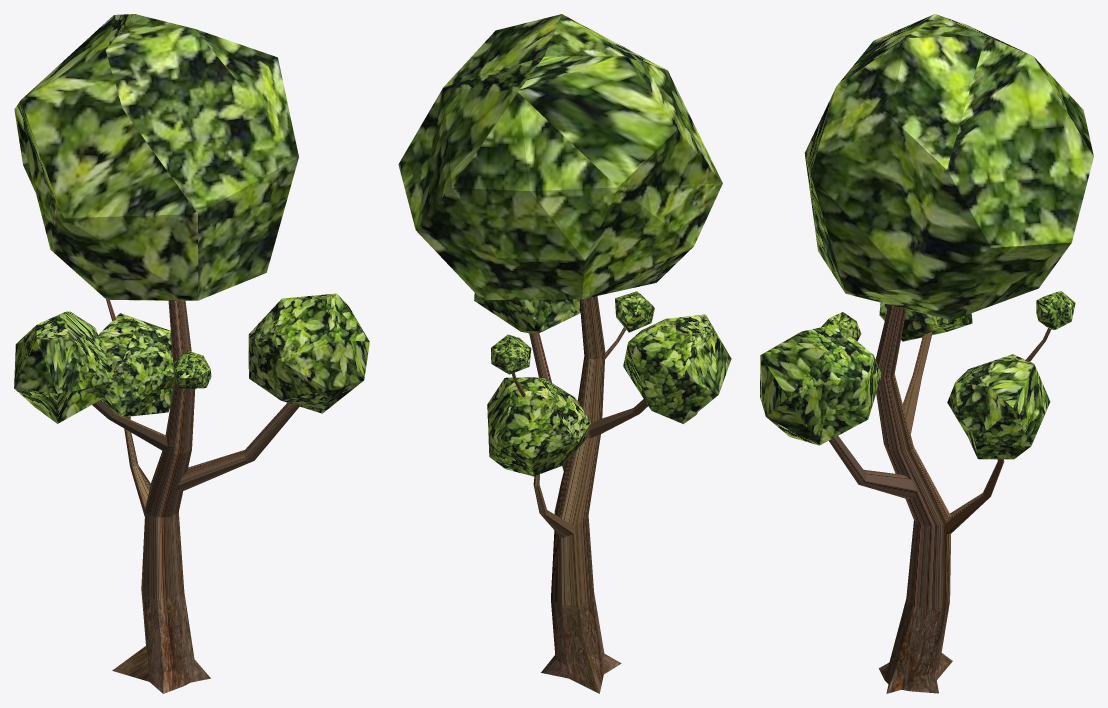
File: Tree_obj.obj
3 views of the same model, side by side, from view 1: azimuth 30°, elevation 25°; view 2: azimuth 150°, elevation 25°; view 3: azimuth 270°, elevation 25° (orthographic).
Parts seen in each view (by area): view 1: Icosphere, Cylinder, Icosphere.001, Icosphere.002, Icosphere.003, Icosphere.005_Icosphere.006; view 2: Icosphere, Cylinder, Icosphere.002, Icosphere.003, Icosphere.001, Icosphere.004, Icosphere.005_Icosphere.006; view 3: Icosphere, Cylinder, Icosphere.001, Icosphere.003, Icosphere.002, Icosphere.004, Icosphere.005_Icosphere.006.
Boxes of the visible parts, x1,y1,x2,y2 form: Icosphere: [14, 14, 298, 300]; Cylinder: [92, 300, 299, 693]; Icosphere.001: [248, 293, 369, 413]; Icosphere.002: [14, 311, 113, 423]; Icosphere.003: [98, 313, 174, 416]; Icosphere.005_Icosphere.006: [171, 350, 211, 388]; Icosphere: [398, 14, 722, 300]; Cylinder: [529, 296, 647, 693]; Icosphere.002: [623, 314, 731, 423]; Icosphere.003: [487, 377, 590, 476]; Icosphere.001: [474, 293, 580, 333]; Icosphere.004: [491, 334, 531, 374]; Icosphere.005_Icosphere.006: [615, 291, 654, 332]; Icosphere: [804, 14, 1093, 320]; Cylinder: [829, 305, 1004, 693]; Icosphere.001: [760, 324, 881, 445]; Icosphere.003: [947, 354, 1050, 459]; Icosphere.002: [879, 302, 972, 341]; Icosphere.004: [1036, 291, 1075, 329]; Icosphere.005_Icosphere.006: [821, 312, 861, 341].
Size of the model in its own units: 6.17 by 13.14 by 6.09.
Materials: 2 (2 with a texture image).
